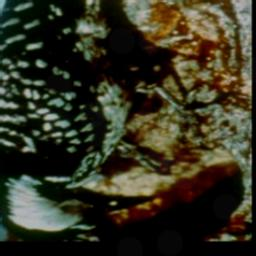Woodpecker: (0, 0, 234, 240)
